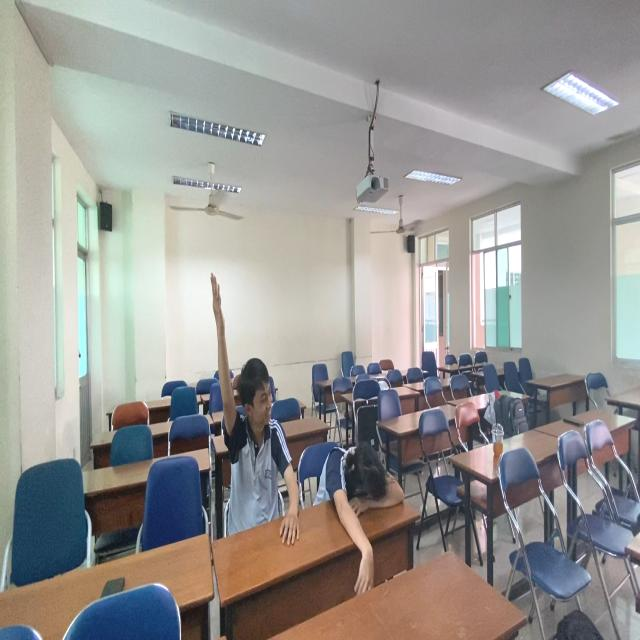raise_hand: (204, 268, 296, 538)
sleep: (311, 434, 410, 539)
